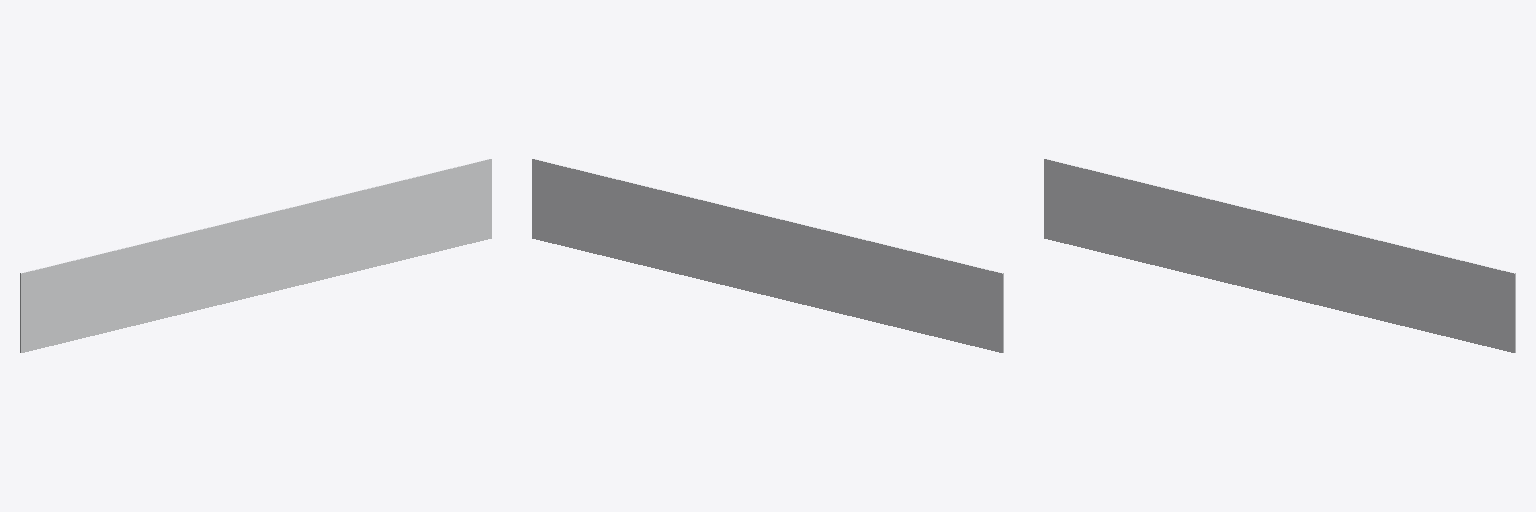
robot.urdf — white_panel:
<?xml version='1.0' encoding='utf-8'?>
<robot name="white_panel">
  <link name="panel">
    <inertial>
      <mass value="0" />
      <origin xyz="0 -.00125 0" rpy="0 0 0" />
      <inertia ixx="0.0" iyy="0.0" izz="0.0" ixy="0" ixz="0" iyz="0" />
    </inertial>
    <collision>
      <origin xyz="0 -.00125 0" rpy="0 0 0" />
      <geometry>
        <box size="1.16205 .0025 .18796" />
      </geometry>
    </collision>
    <visual>
      <geometry>
        <mesh filename="../meshes/override/white_panel.obj" />
      </geometry>
      <material name=".._meshes_override_white_panel.obj">
        <color rgba=".96 .965 .975 1" />
      </material>
    </visual>
  </link>
</robot>

--- Render facts (derived) ---
Views: 3 orthographic renders of the robot side by side, from view 1: azimuth 30°, elevation 25°; view 2: azimuth 150°, elevation 25°; view 3: azimuth 330°, elevation 25°.
Robot: white_panel — 1 links, 0 joints (none); root link panel; default pose: every joint at zero.
Visible links, largest first — view 1: panel; view 2: panel; view 3: panel.
Link boxes in pixels (box(x1,y1,x2,y2)): panel: box(20, 159, 491, 352); panel: box(532, 159, 1003, 352); panel: box(1044, 159, 1515, 352).
Bounding box of the posed robot: 1.16 × 0.0025 × 0.188 m (x, y, z).
1 mesh visuals loaded from 1 distinct referenced files (1 OBJ).
